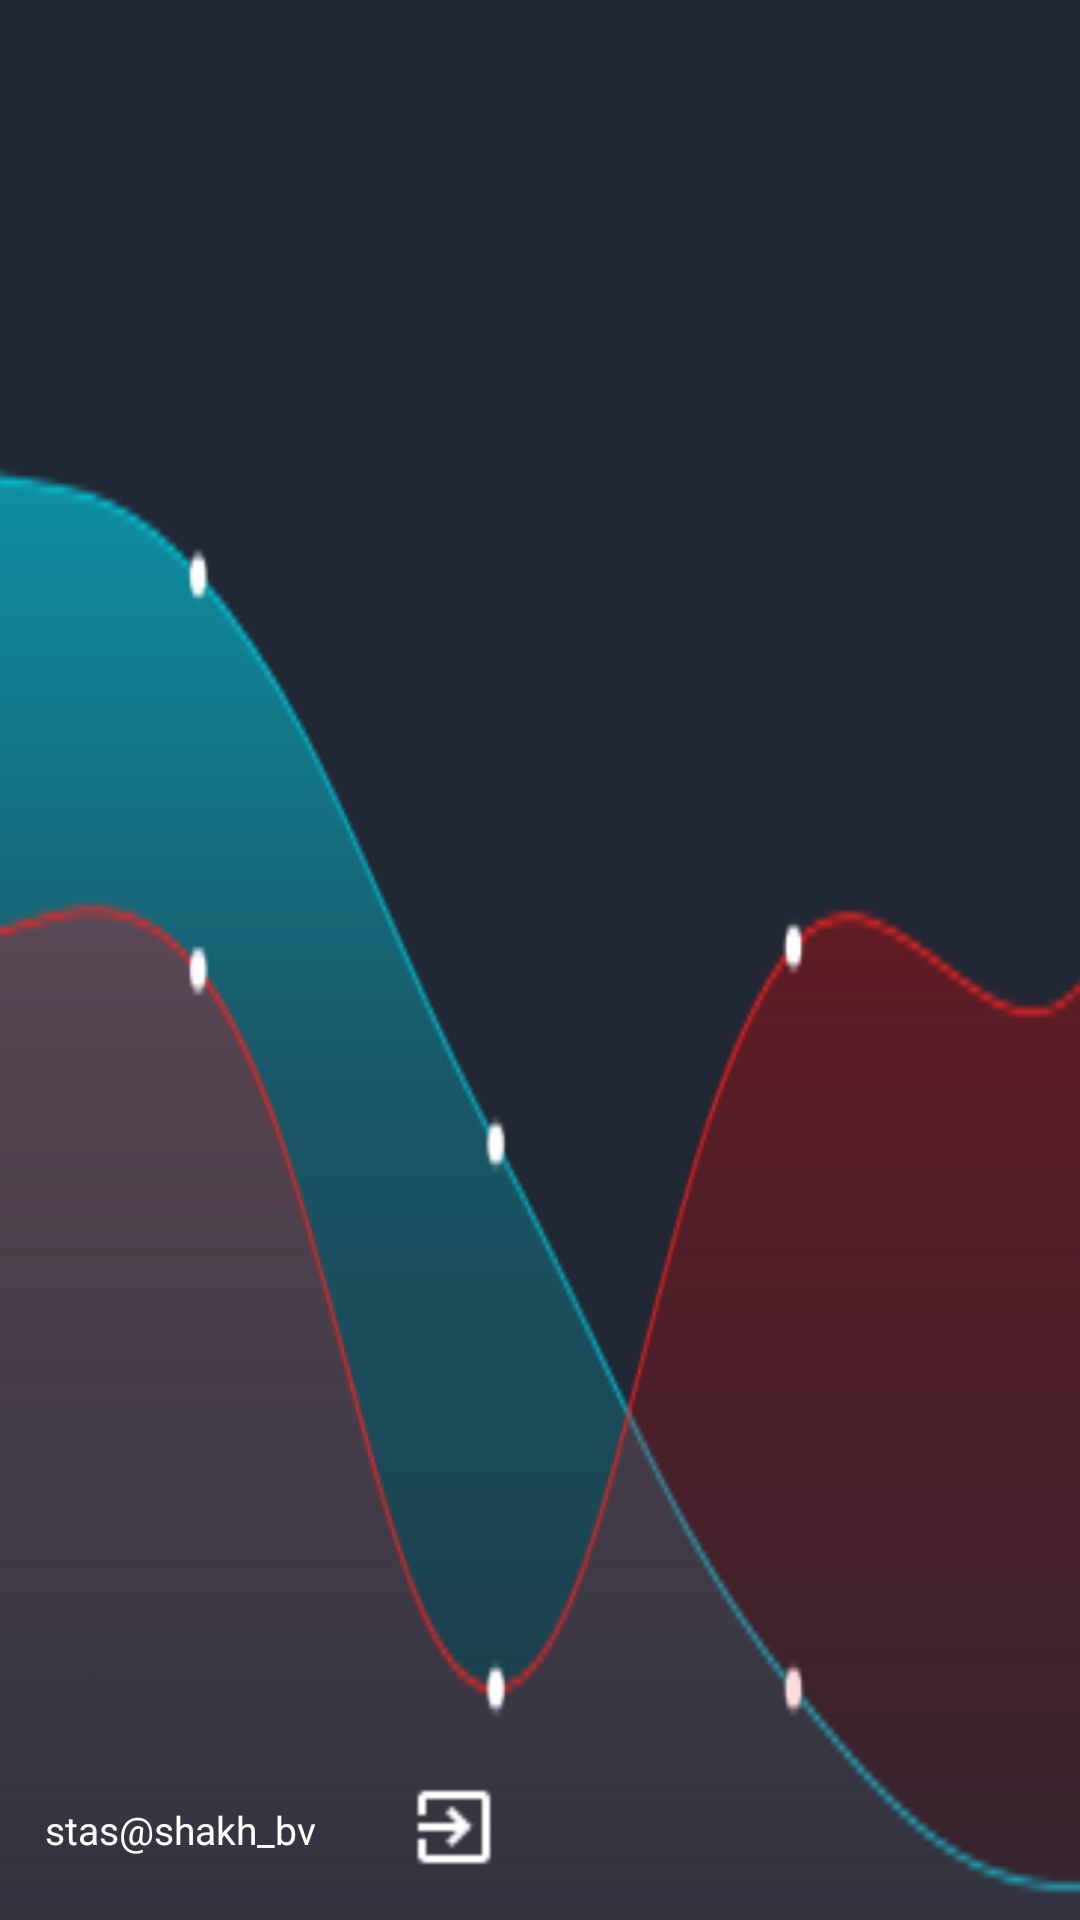

Icon bounding boxes for this 1080 × 1920 phone screenshot, format [x1,y1,x2,y2]:
exit to app: [416,1789,492,1864]
